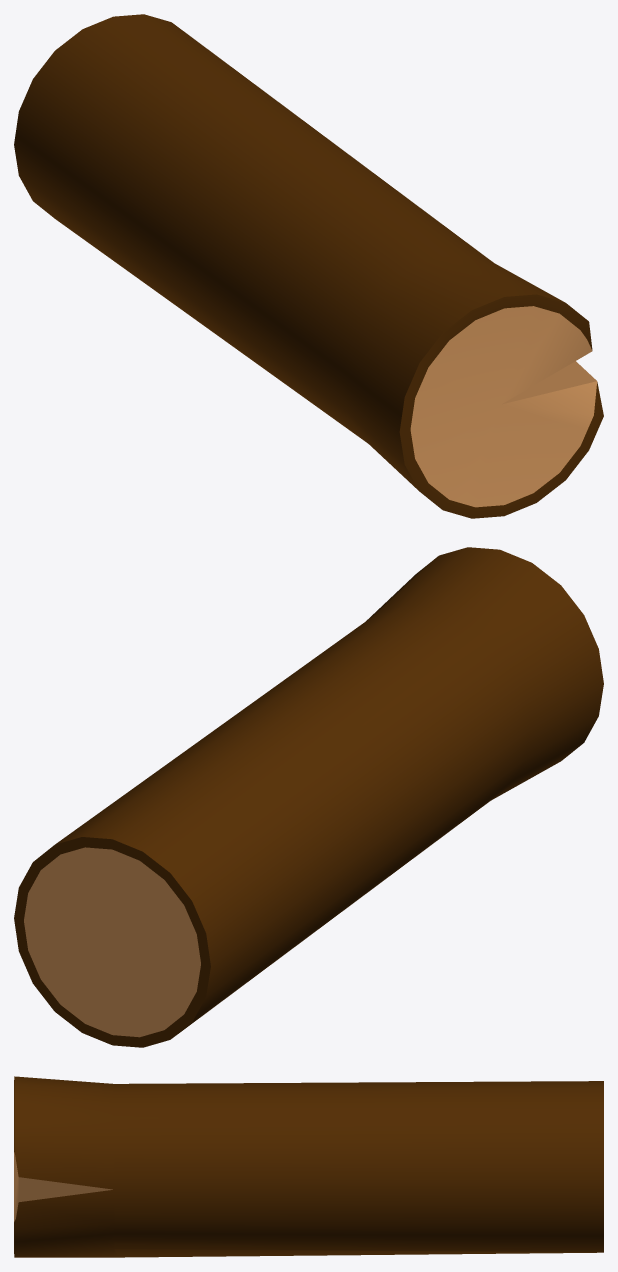
File: Stock.fbx
3 renders of one model, top to bottom at view 1: azimuth 30°, elevation 25°; view 2: azimuth 150°, elevation 25°; view 3: azimuth 270°, elevation 25°, orthographic. The views are drawn at different scales.
Visible parts, largest first — view 1: pCylinder1; view 2: pCylinder1; view 3: pCylinder1.
Boxes of the visible parts, bbox=[...] form: pCylinder1: bbox=[14, 14, 603, 518]; pCylinder1: bbox=[14, 547, 603, 1047]; pCylinder1: bbox=[14, 1076, 603, 1257].
Size of the model in its own units: 2.13 by 2.18 by 7.06.
